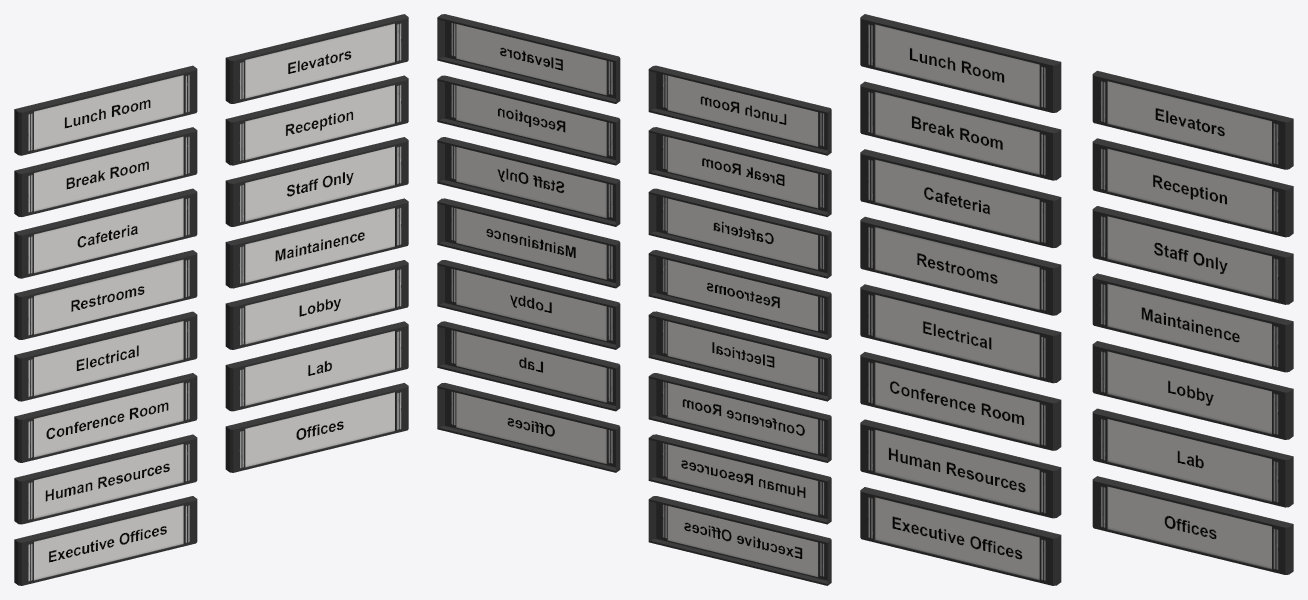
File: WallSignsGroup.FBX
3 views of the same model, side by side, from view 1: azimuth 30°, elevation 25°; view 2: azimuth 150°, elevation 25°; view 3: azimuth 330°, elevation 25° (orthographic). The views are drawn at different scales.
Visible parts, largest first — view 1: WallSign_04, WallSign_02, WallSign_10, WallSign_09, WallSign_03, WallSign_06, WallSign_08, WallSign_11, WallSign_05, WallSign_14, WallSign_12, WallSign_07 (+3 smaller); view 2: WallSign_12, WallSign_06, WallSign_14, WallSign_07, WallSign_08, WallSign_05, WallSign_13, WallSign_10, WallSign_02, WallSign_04, WallSign_11, WallSign_01 (+3 smaller); view 3: WallSign_14, WallSign_10, WallSign_05, WallSign_07, WallSign_15, WallSign_13, WallSign_01, WallSign_02, WallSign_04, WallSign_09, WallSign_06, WallSign_03 (+3 smaller).
Boxes of the visible parts, x1,y1,x2,y2 form: WallSign_04: (14, 311, 197, 401); WallSign_02: (14, 434, 197, 524); WallSign_10: (225, 321, 408, 411); WallSign_09: (225, 383, 408, 472); WallSign_03: (14, 373, 197, 462); WallSign_06: (14, 188, 197, 278); WallSign_08: (14, 65, 197, 155); WallSign_11: (225, 260, 408, 349); WallSign_05: (14, 250, 197, 339); WallSign_14: (225, 75, 408, 165); WallSign_12: (225, 198, 408, 288); WallSign_07: (14, 127, 197, 216); WallSign_12: (437, 198, 620, 288); WallSign_06: (648, 188, 831, 278); WallSign_14: (437, 75, 620, 165); WallSign_07: (648, 127, 831, 216); WallSign_08: (648, 65, 831, 155); WallSign_05: (648, 250, 831, 339); WallSign_13: (437, 137, 620, 226); WallSign_10: (437, 321, 620, 411); WallSign_02: (648, 434, 831, 524); WallSign_04: (648, 311, 831, 401); WallSign_11: (437, 260, 620, 349); WallSign_01: (648, 496, 831, 585); WallSign_14: (1092, 138, 1293, 237); WallSign_10: (1092, 408, 1293, 507); WallSign_05: (860, 216, 1061, 315); WallSign_07: (860, 81, 1061, 180); WallSign_15: (1092, 70, 1293, 169); WallSign_13: (1092, 206, 1293, 304); WallSign_01: (860, 487, 1061, 585); WallSign_02: (860, 419, 1061, 518); WallSign_04: (860, 284, 1061, 383); WallSign_09: (1092, 476, 1293, 574); WallSign_06: (860, 149, 1061, 247); WallSign_03: (860, 352, 1061, 450).
Size of the model in its own units: 166 by 193 by 4.
